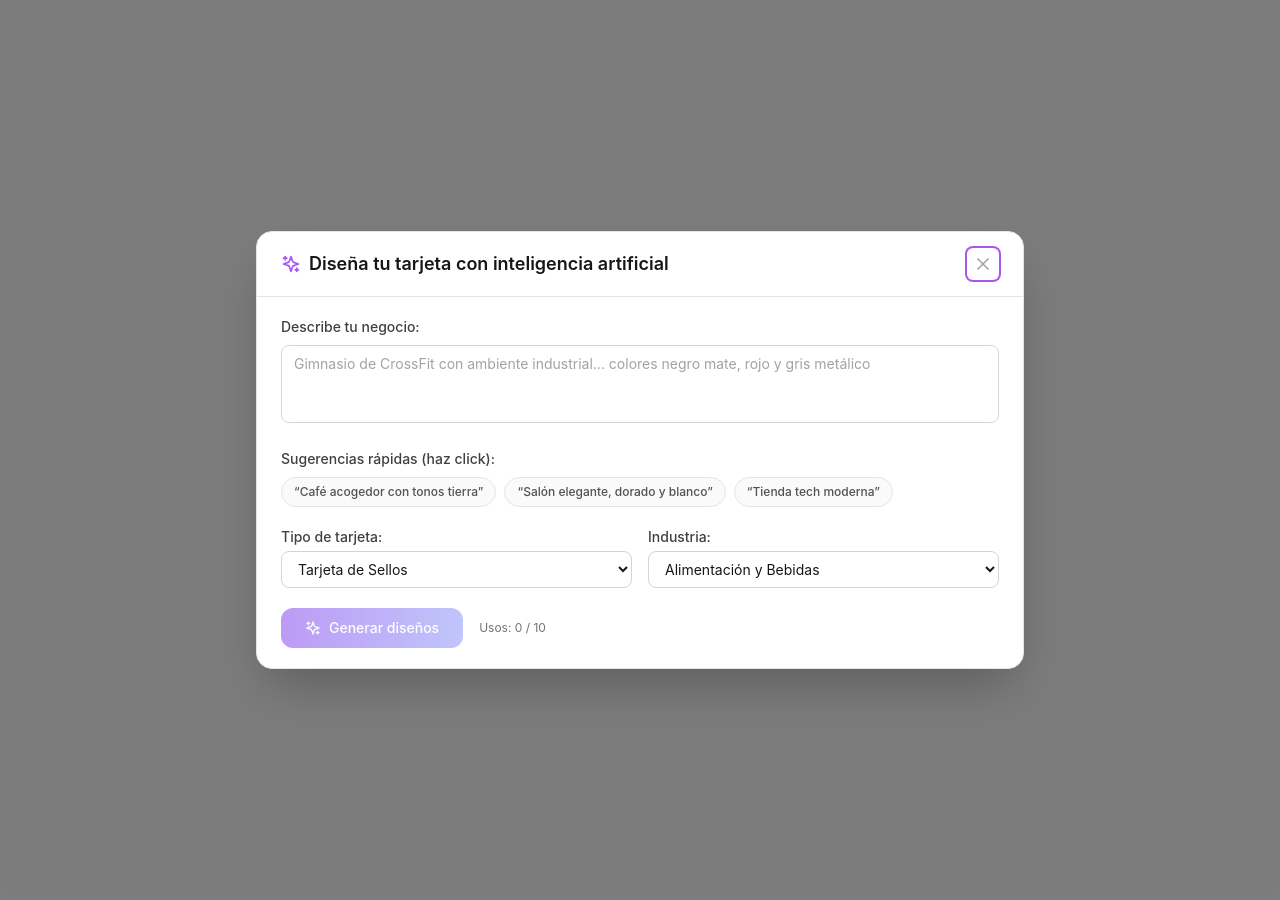
Test: AIChatModal › generate button is enabled after typing description
Replace the text in the text box labelled "Describe tu negocio:" with "Café acogedor" at [640, 384], box [281,345,999,423]
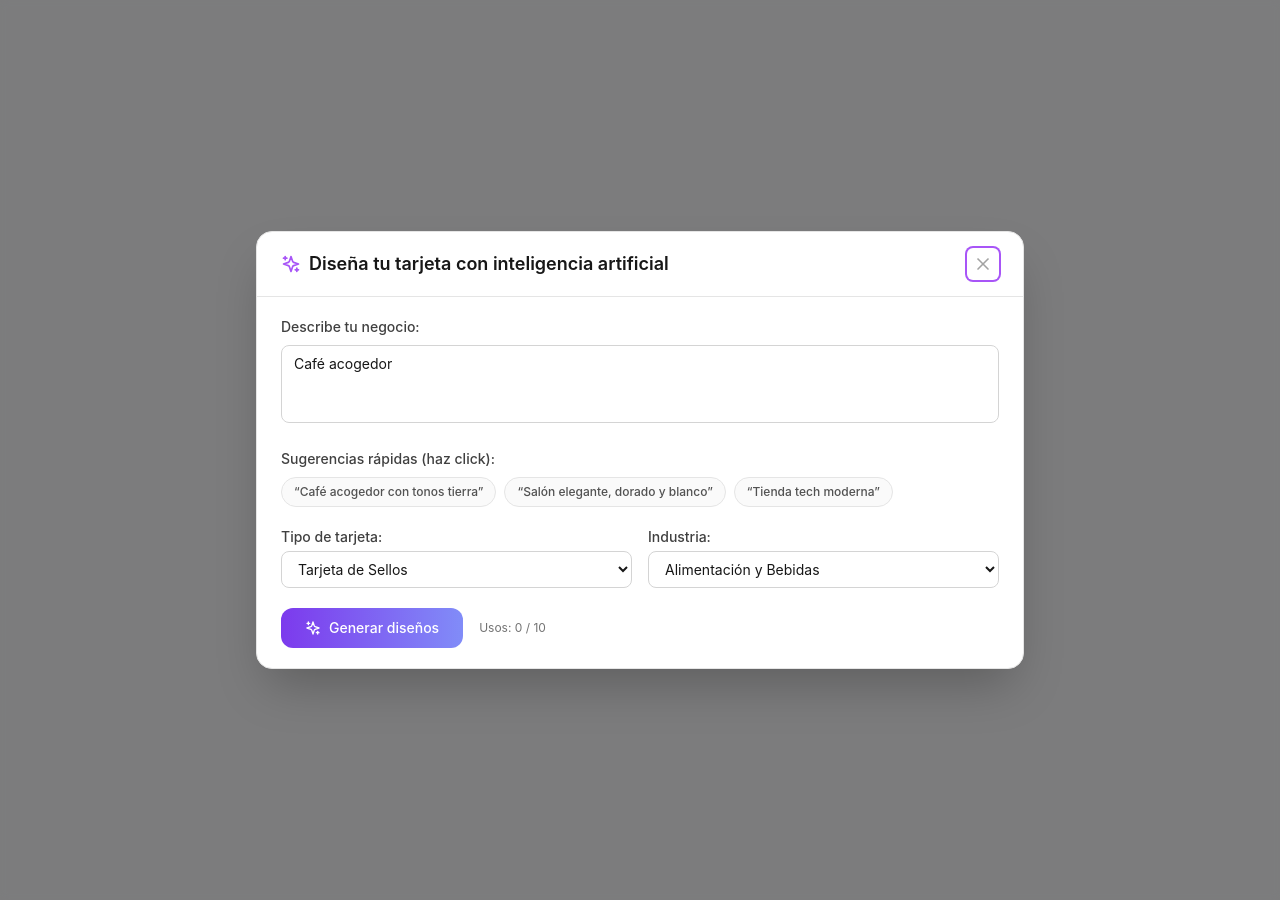
Expected: the button "Generar diseños" is enabled, [281,608,463,648]
